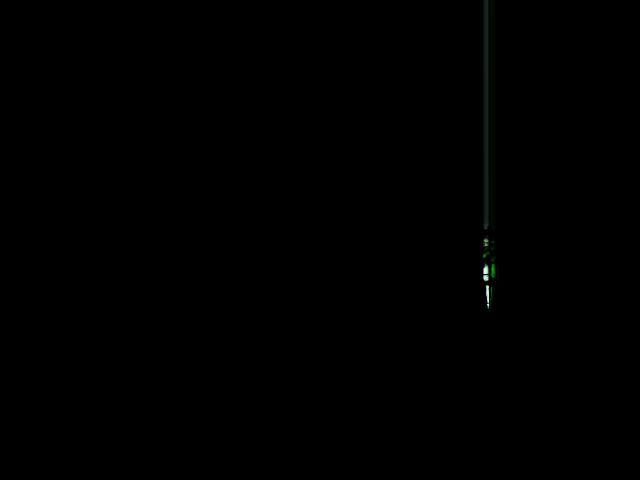beer: (482, 239, 499, 308)
